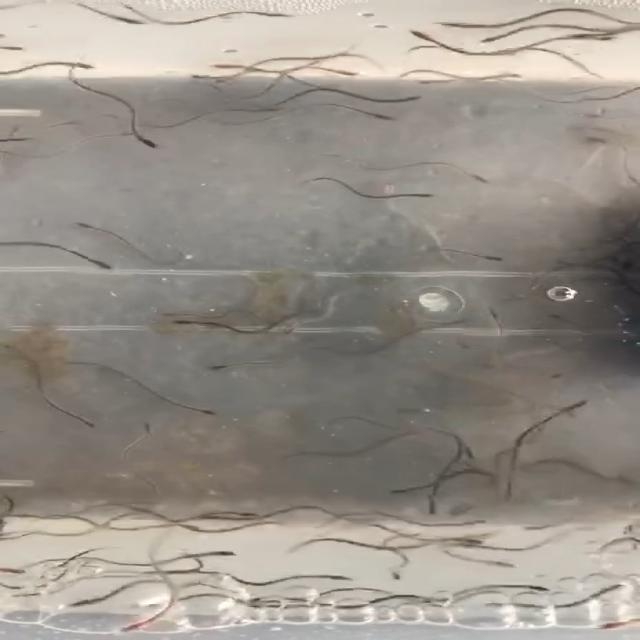active_glass_eel: (593, 613, 635, 633), (246, 593, 293, 609), (64, 594, 105, 610), (574, 29, 617, 44), (398, 188, 437, 204), (115, 616, 148, 634), (363, 111, 402, 126), (186, 403, 225, 418), (407, 28, 439, 46), (462, 513, 495, 530), (154, 309, 189, 325), (516, 582, 551, 598), (433, 18, 476, 31), (134, 134, 166, 151), (479, 304, 506, 324), (478, 32, 516, 46), (71, 219, 106, 234), (170, 316, 207, 330), (254, 103, 286, 119), (322, 570, 356, 585), (259, 8, 298, 21), (210, 61, 256, 72), (0, 121, 23, 143), (60, 58, 96, 72), (204, 546, 240, 560), (379, 484, 414, 498), (491, 558, 526, 572), (450, 535, 490, 547), (519, 520, 559, 532), (328, 65, 362, 79), (576, 131, 610, 145), (110, 15, 146, 28), (188, 70, 221, 84), (83, 257, 116, 271), (478, 250, 508, 265), (0, 562, 32, 576), (0, 40, 34, 53), (276, 320, 302, 337), (561, 397, 595, 410), (458, 443, 481, 462), (574, 108, 610, 120), (545, 311, 572, 327), (522, 278, 548, 294), (462, 171, 493, 184), (497, 70, 530, 82), (105, 130, 144, 140), (132, 420, 154, 437), (78, 417, 106, 430), (384, 569, 406, 585), (227, 507, 259, 518), (452, 336, 473, 352), (391, 94, 424, 104), (205, 362, 232, 374), (498, 490, 518, 506), (447, 314, 471, 327), (425, 501, 442, 518), (551, 368, 569, 381)
